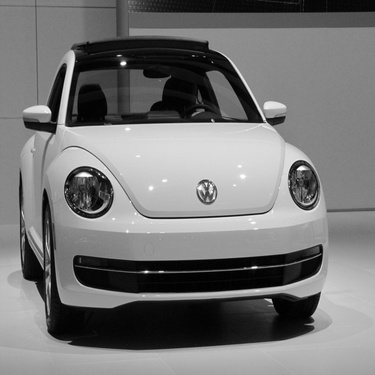car: (5, 33, 337, 323)
